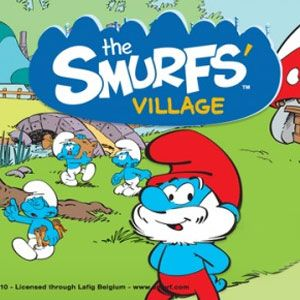smurf: (128, 129, 242, 300), (6, 180, 66, 262), (50, 130, 99, 186), (110, 138, 151, 199)
